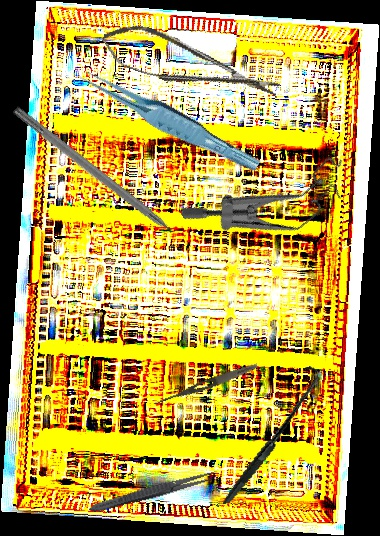Dressing Forceps: (87, 466, 220, 517), (152, 360, 260, 410)
Hook Surgical: (10, 105, 194, 252), (196, 364, 343, 505)
Micro Scissor: (96, 14, 284, 117)
Speculum: (178, 111, 361, 284)
Tissue Forceps: (77, 54, 262, 185)
